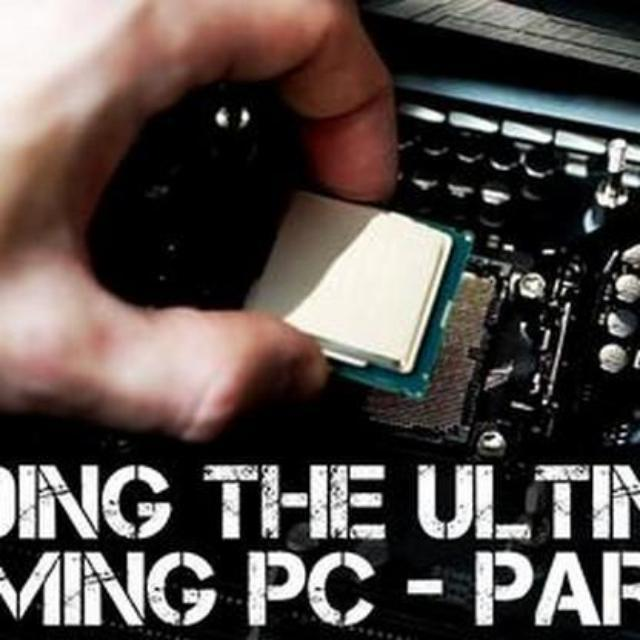CPU: (229, 175, 454, 392)
